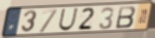2: (76, 7, 97, 31)
3: (19, 10, 38, 34), (99, 6, 115, 31)
7: (39, 8, 59, 33)
B: (114, 5, 137, 30)
U: (57, 8, 79, 33)
